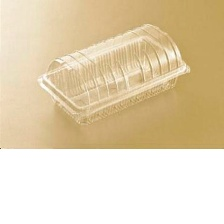plastic_box: (30, 16, 198, 133)
